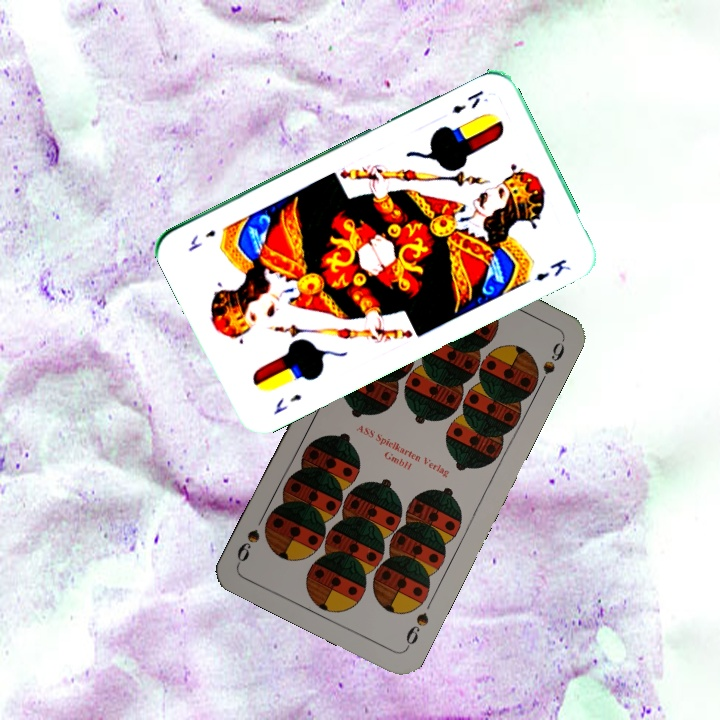EK: (448, 86, 486, 117), (269, 390, 304, 417)
S9: (401, 608, 432, 652)
